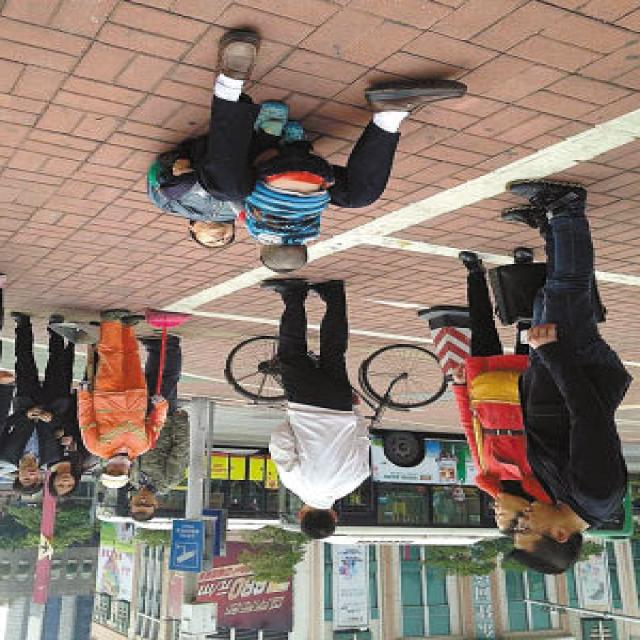nofight: (153, 38, 454, 274), (480, 173, 622, 570), (251, 273, 380, 530), (76, 320, 161, 488), (8, 302, 56, 486), (127, 373, 174, 525)
